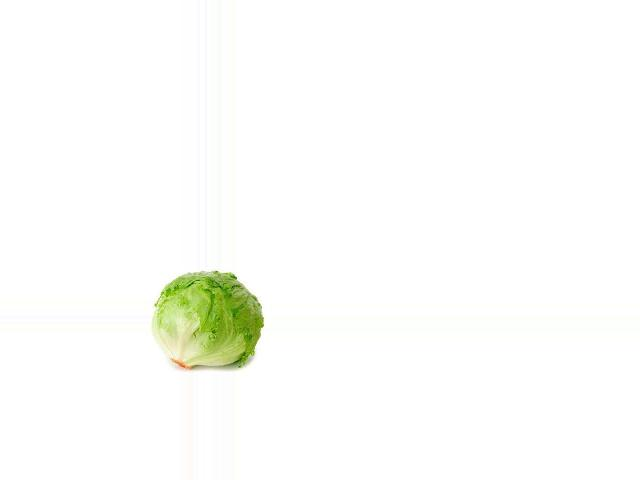lettuce: (158, 270, 262, 366)
